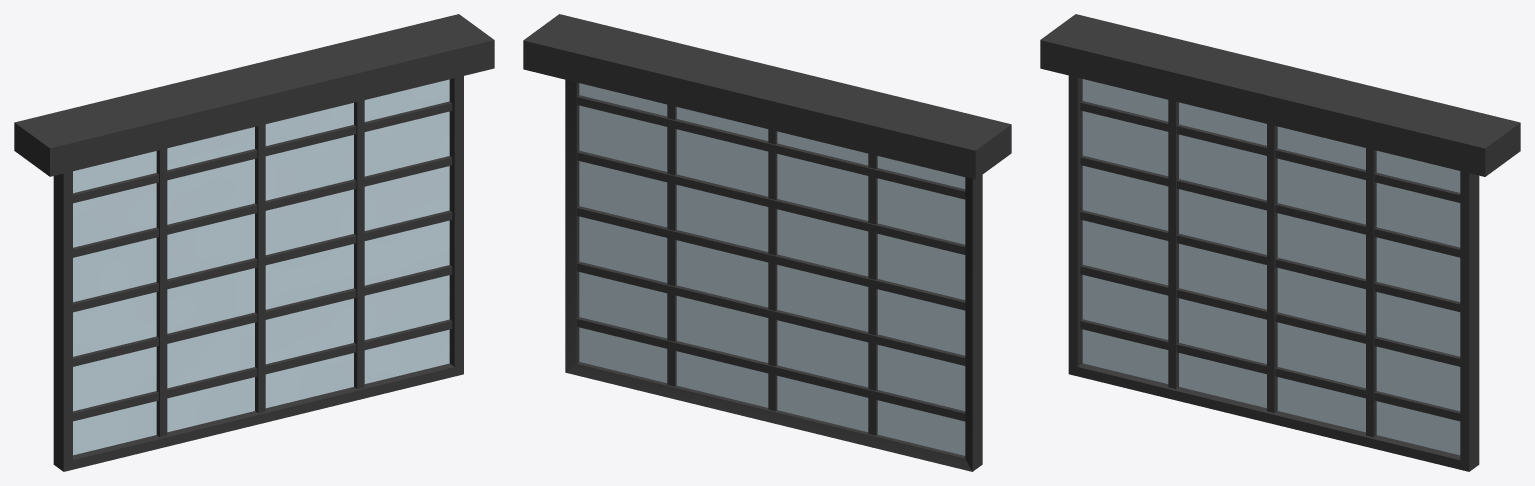
Rendered from window_012.fbx.
The picture shows the model from 3 angles, left to right: view 1: azimuth 30°, elevation 25°; view 2: azimuth 150°, elevation 25°; view 3: azimuth 330°, elevation 25°; orthographic projection.
Visible parts, largest first — view 1: window_012; view 2: window_012; view 3: window_012.
Boxes of the visible parts, x1,y1,x2,y2 form: window_012: [14, 14, 494, 471]; window_012: [523, 14, 1011, 471]; window_012: [1040, 14, 1520, 471].
Size of the model in its own units: 343 by 47.45 by 246.
